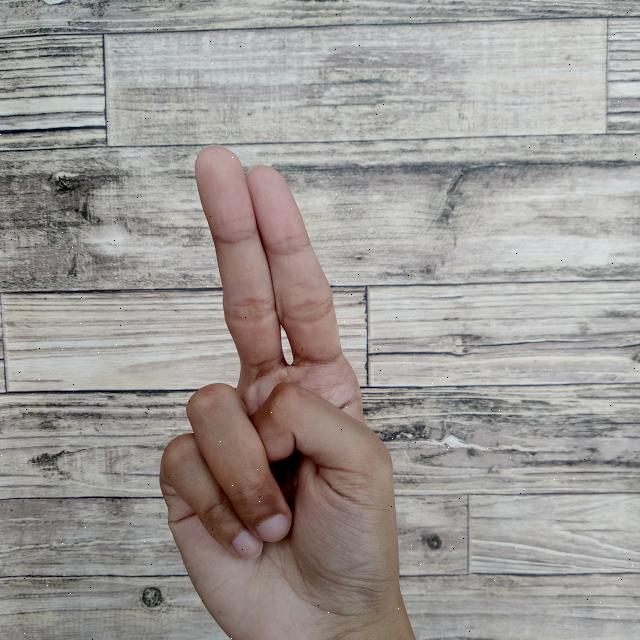U: (150, 138, 418, 640)
